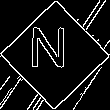N_S: (35, 30, 75, 80)
